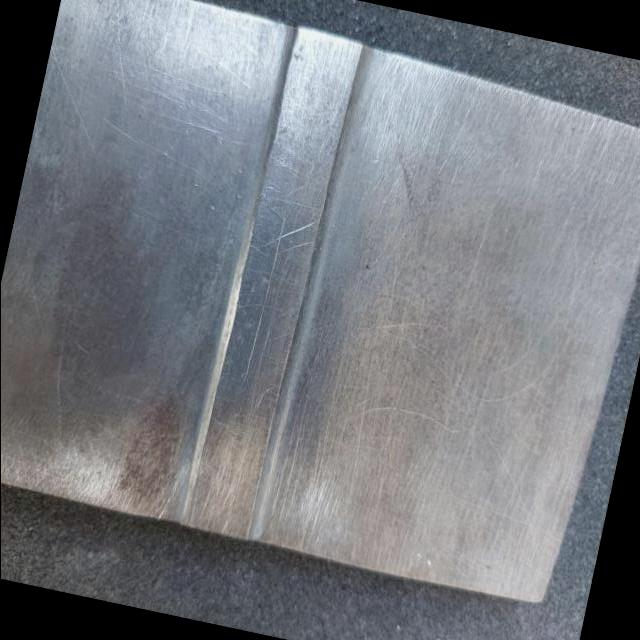defect: (242, 204, 288, 385)
